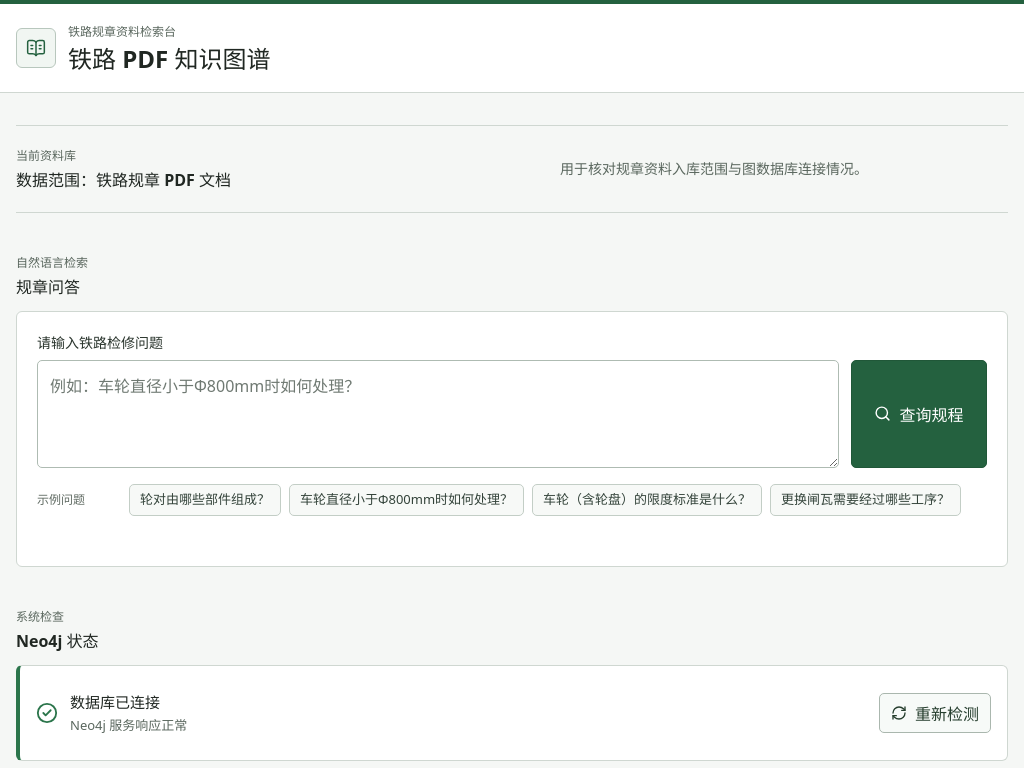
Test: found=false 时只显示未找到证据
expect the text "数据库已连接" is shown: met, box [70,692,160,712]
Type "不存在的工序有哪些步骤？" into the text box at (438, 414), box [37,360,839,468]
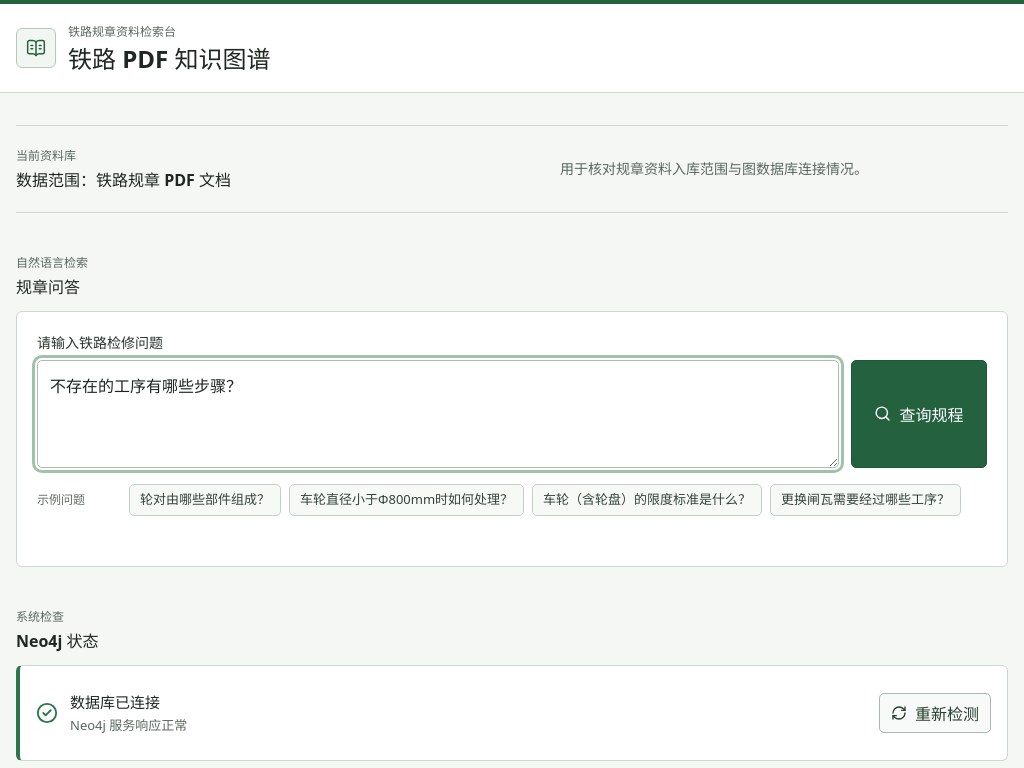
Click the button "查询规程" at (919, 414), box [851,360,987,468]
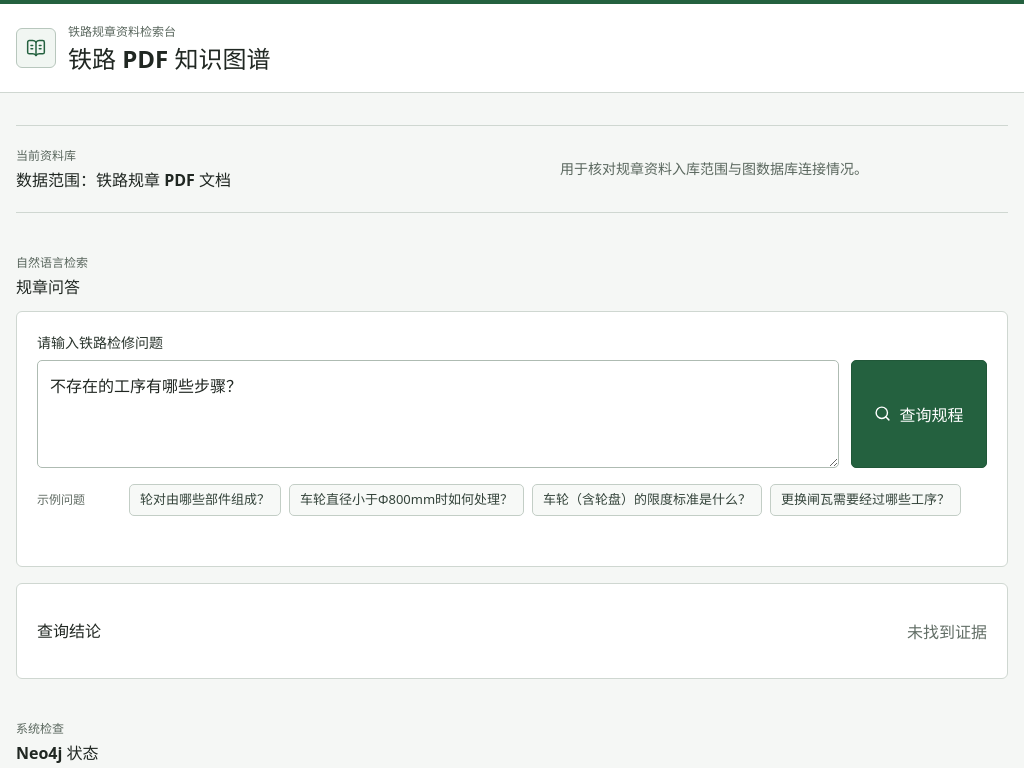
expect the text "未找到证据" is shown: met, box [907,619,987,643]
